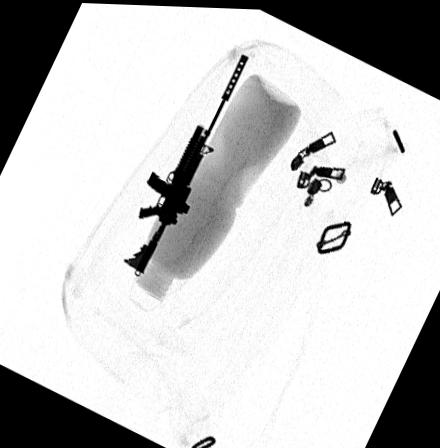Gun: (121, 50, 249, 272)
